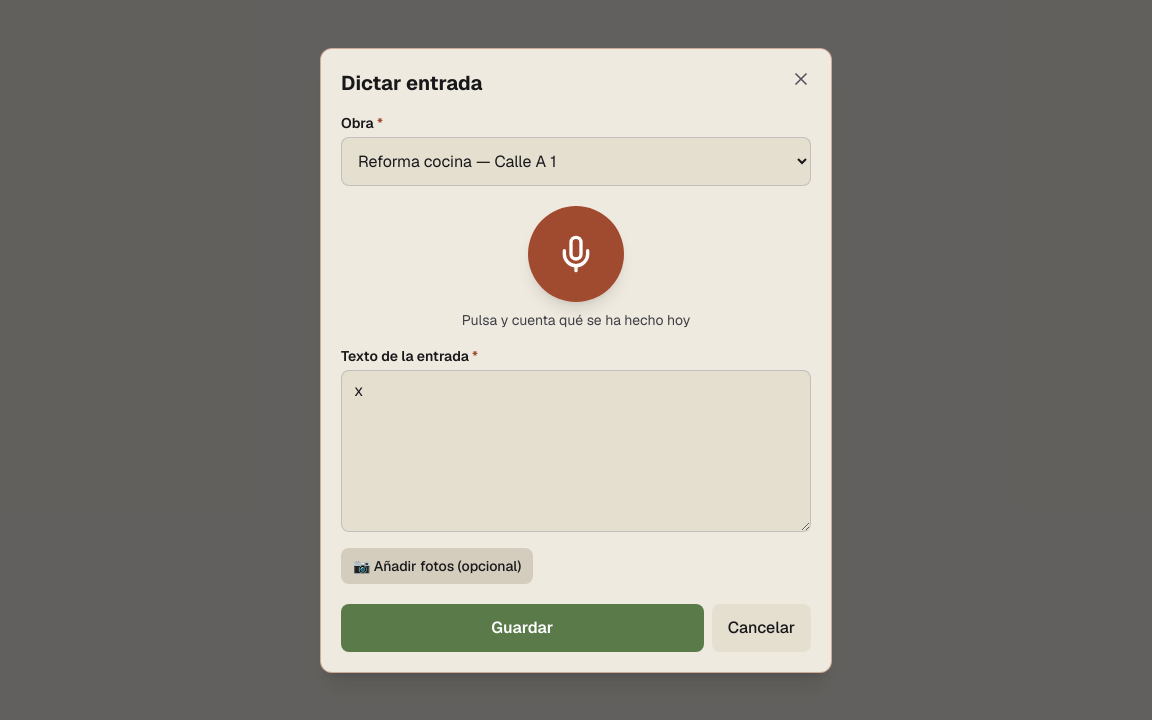
Scenario: DictarEntradaModal › muestra el error de guardado y no cierra
The image size is (1152, 720).
Click the button "Guardar" at (522, 628), box x1=341 y1=604 x2=704 y2=652
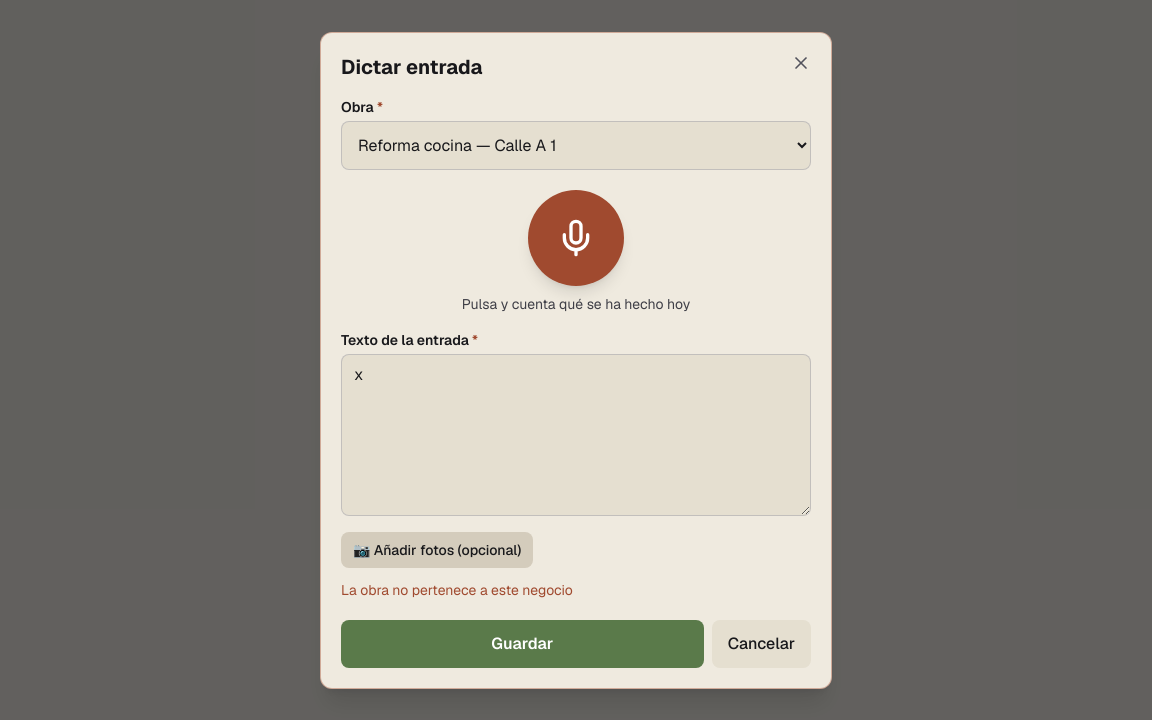
Result: the text "La obra no pertenece a este negocio" is shown at x1=341 y1=580 x2=573 y2=598
